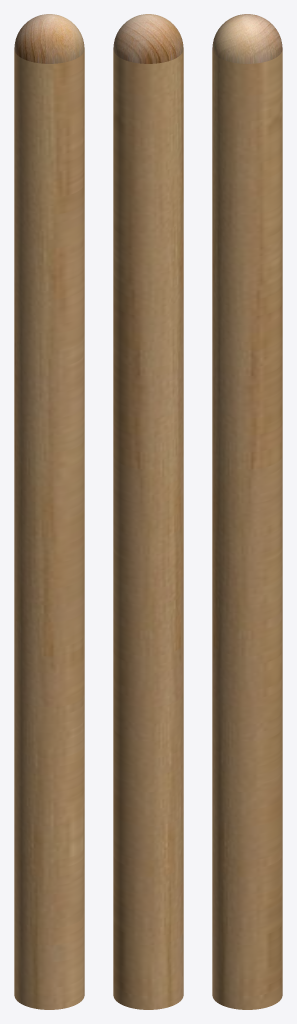
The model's file is Tower.fbx.
The picture shows the model from 3 angles, left to right: view 1: azimuth 90°, elevation 25°; view 2: azimuth 150°, elevation 25°; view 3: azimuth 270°, elevation 25°; orthographic projection.
Parts seen in each view (by area): view 1: Component_3_1; view 2: Component_3_1; view 3: Component_3_1.
Boxes of the visible parts, box(x1,y1,x2,y2) form: Component_3_1: box(14, 14, 84, 1009); Component_3_1: box(113, 14, 183, 1009); Component_3_1: box(212, 14, 282, 1009).
Size of the model in its own units: 0.375 by 5.76 by 0.375.
